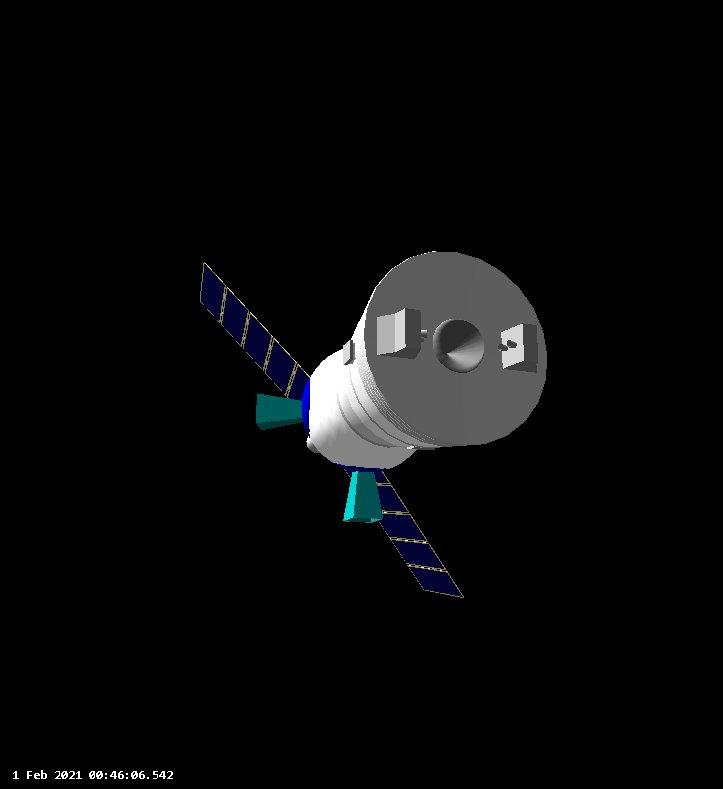body: (301, 245, 551, 469)
solar: (340, 460, 467, 599), (196, 259, 313, 404)
thruster: (433, 318, 487, 376), (343, 468, 383, 526), (252, 392, 306, 434)
